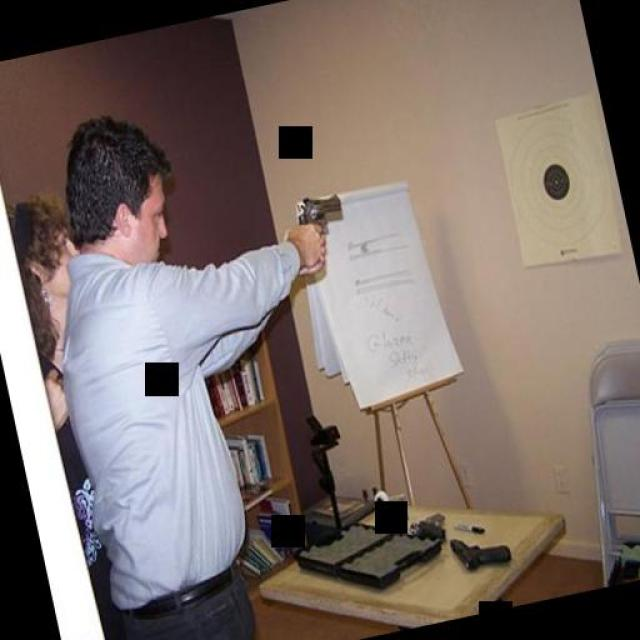gun: (286, 182, 350, 260)
